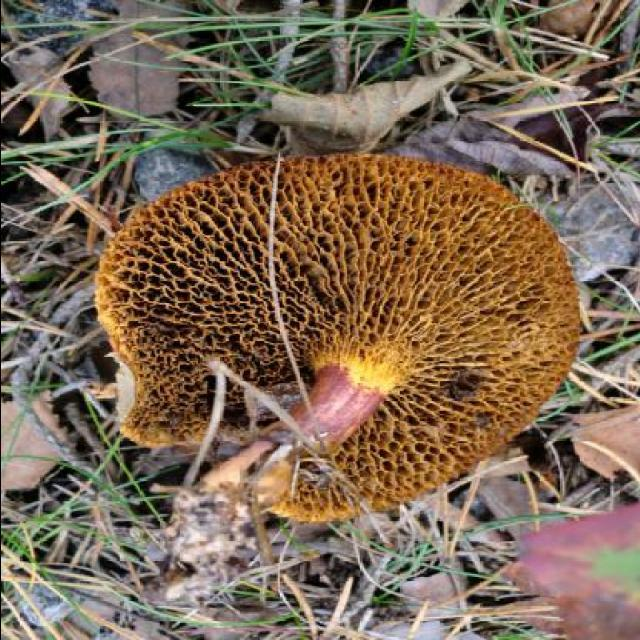Mushroom: (54, 140, 591, 494)
